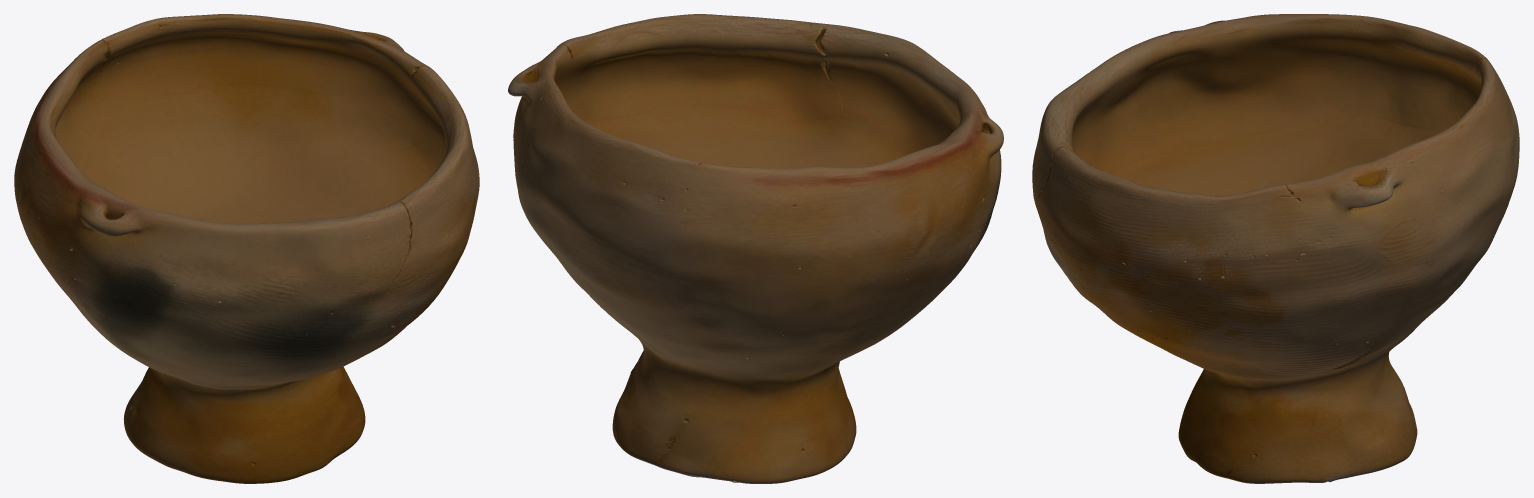
File: cuenco-2.glb
The picture shows the model from 3 angles, left to right: view 1: azimuth 30°, elevation 25°; view 2: azimuth 150°, elevation 25°; view 3: azimuth 270°, elevation 25°; orthographic projection. The views are drawn at different scales.
Visible parts, largest first — view 1: tripo_node_1ae5097b-275d-43d9-919c-59b3527e14c0; view 2: tripo_node_1ae5097b-275d-43d9-919c-59b3527e14c0; view 3: tripo_node_1ae5097b-275d-43d9-919c-59b3527e14c0.
Part boxes in pixels (x1,y1,x2,y2): tripo_node_1ae5097b-275d-43d9-919c-59b3527e14c0: [14, 14, 479, 483]; tripo_node_1ae5097b-275d-43d9-919c-59b3527e14c0: [508, 14, 1003, 483]; tripo_node_1ae5097b-275d-43d9-919c-59b3527e14c0: [1032, 14, 1519, 483].
Bounding box in the file's own units: 0.9795 × 0.8144 × 0.9798.
1 material, 1 textured.
